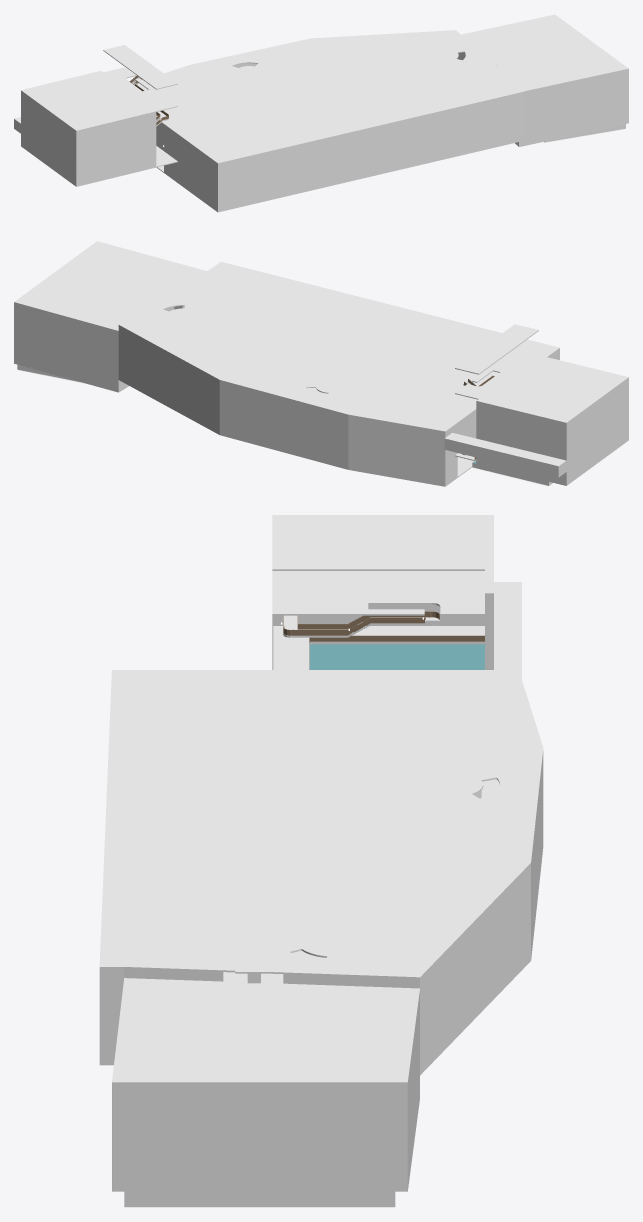
3 views of the same model, one above another, from view 1: azimuth 30°, elevation 25°; view 2: azimuth 150°, elevation 25°; view 3: azimuth 270°, elevation 25° (orthographic). The views are drawn at different scales.
Parts seen in each view (by area): view 1: b3_ceiling_rock_ceiling, b3_wall_plaster, b3_wall_basalt, b3_floor_stone_floor, b3_basin_pool_tile; view 2: b3_ceiling_rock_ceiling, b3_wall_plaster, b3_wall_basalt, b3_floor_stone_floor, b3_basin_pool_tile; view 3: b3_ceiling_rock_ceiling, b3_wall_basalt, b3_wall_plaster, b3_basin_pool_tile, b3_water_w_falls_pool, b3_floor_stone_floor, b3_rail_rail.
Part boxes in pixels (x1,y1,x2,y2): b3_ceiling_rock_ceiling: (14, 14, 628, 163); b3_wall_plaster: (14, 52, 525, 211); b3_wall_basalt: (21, 69, 628, 185); b3_floor_stone_floor: (14, 122, 628, 212); b3_basin_pool_tile: (544, 124, 625, 142); b3_ceiling_rock_ceiling: (14, 241, 628, 467); b3_wall_plaster: (118, 306, 566, 485); b3_wall_basalt: (14, 303, 628, 484); b3_floor_stone_floor: (14, 363, 628, 486); b3_basin_pool_tile: (17, 364, 553, 486); b3_ceiling_rock_ceiling: (99, 515, 543, 1083); b3_wall_basalt: (112, 595, 493, 1189); b3_wall_plaster: (99, 752, 543, 1073); b3_basin_pool_tile: (124, 643, 484, 1207); b3_water_w_falls_pool: (309, 644, 484, 669); b3_floor_stone_floor: (99, 626, 543, 1191); b3_rail_rail: (283, 611, 484, 669).
Bounding box in the file's own units: 192 × 42.5 × 72.
